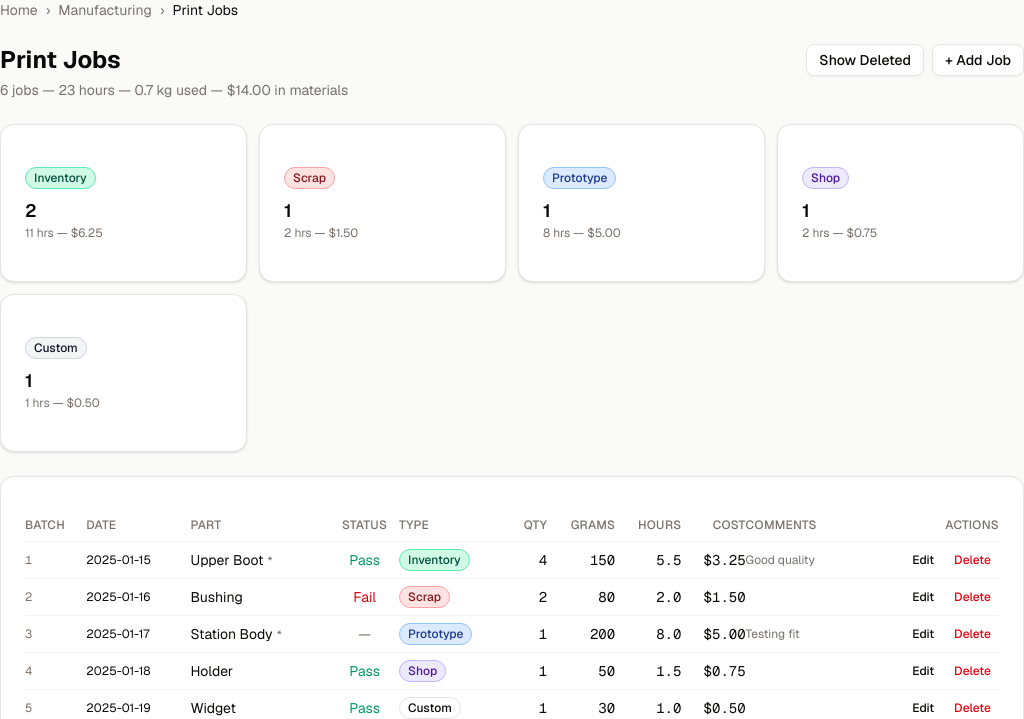
it: PrintJobsPage › validates empty batchId on add
Click the button "+ Add Job" at [978, 60], box [932, 44, 1023, 76]
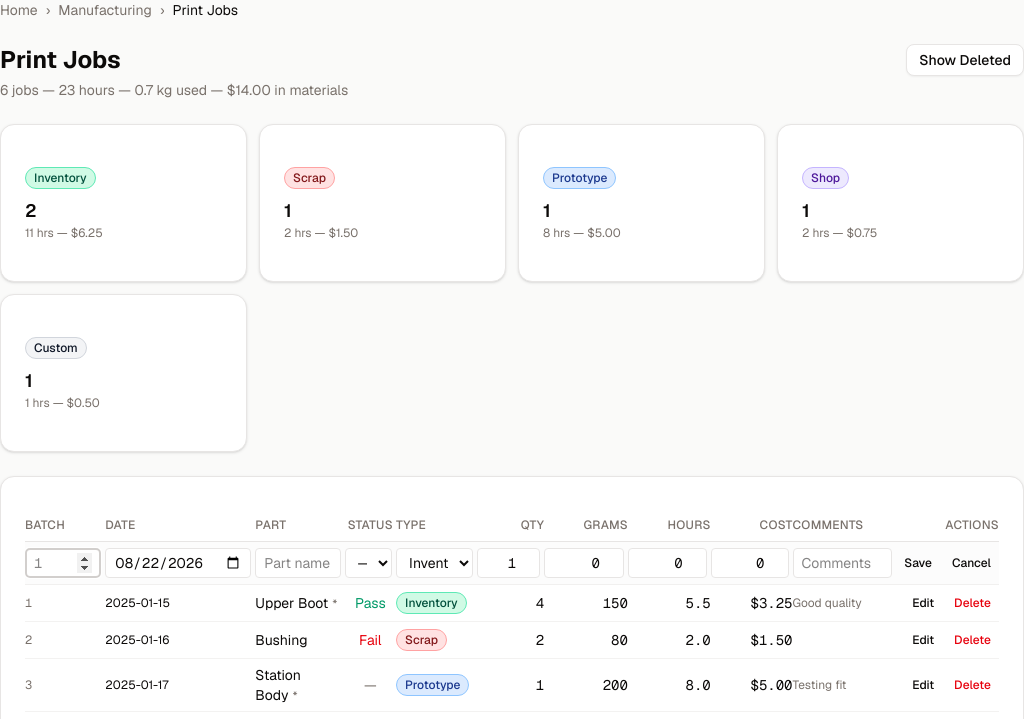
batchId is empty by default, part filled
Type "Some Part" into the field with placeholder "Part name" at [298, 563], box [255, 548, 340, 578]
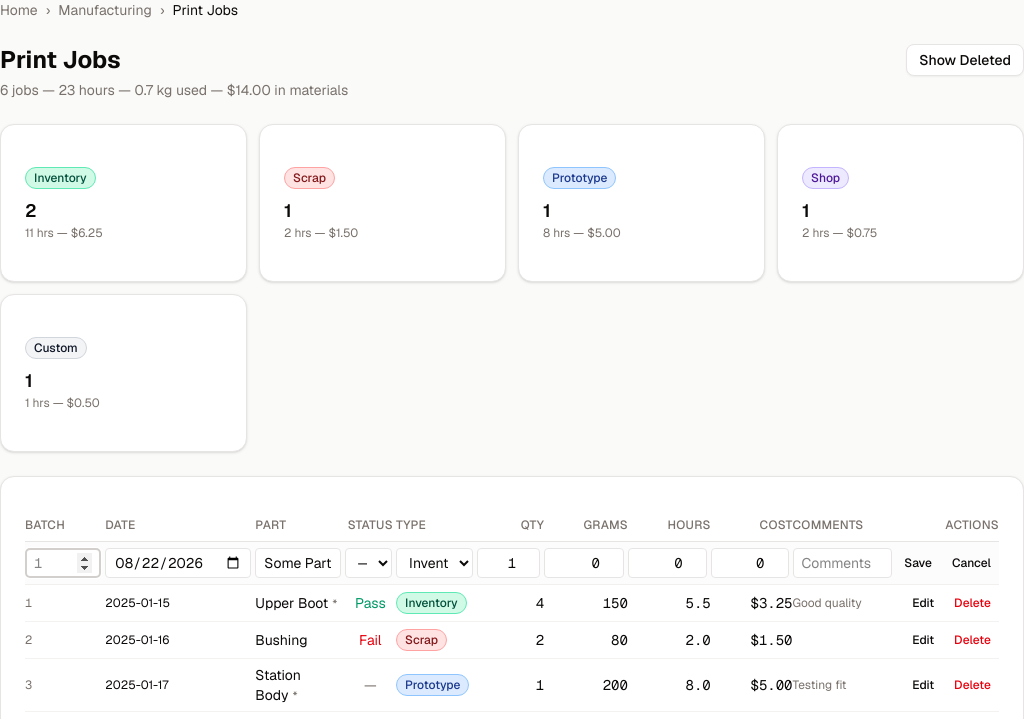
Click the button "Save" at [918, 563], box [896, 551, 940, 575]
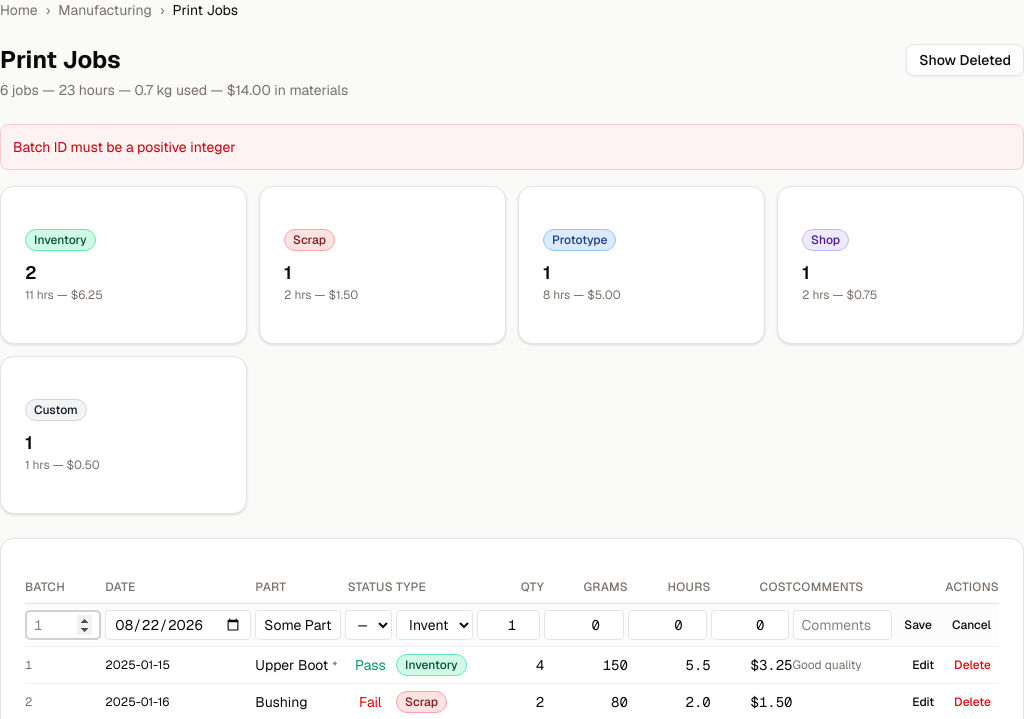
Expected: the text "Batch ID must be a positive integer" is shown, [0, 124, 1023, 170]
